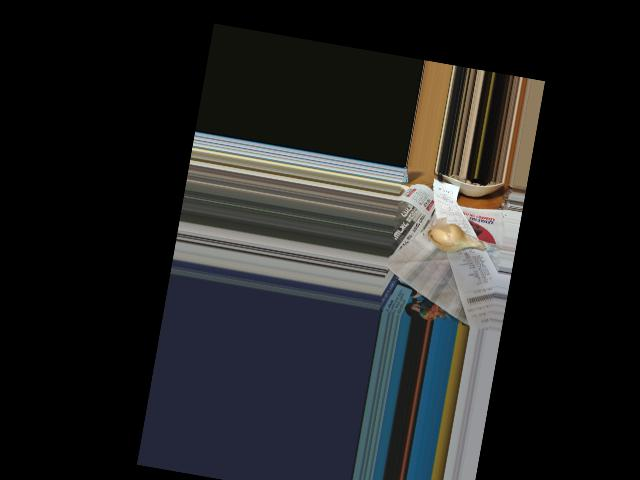onion: (425, 218, 485, 263)
